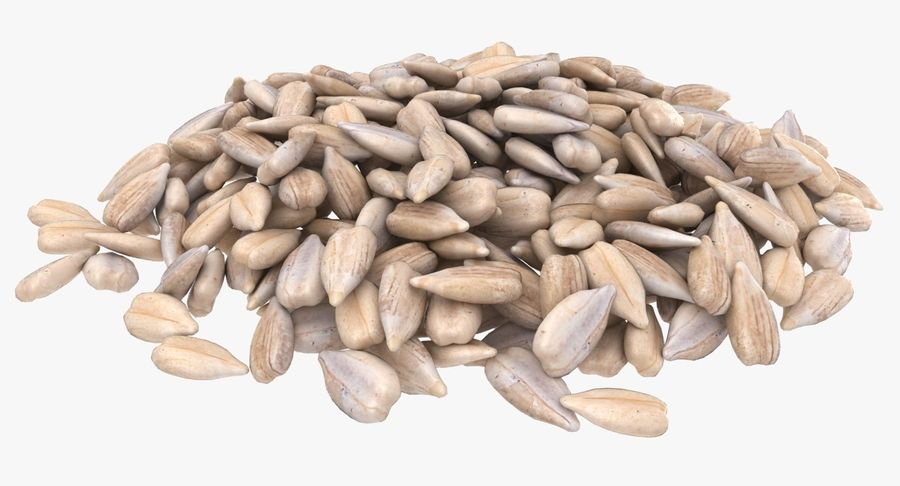seed: (16, 29, 887, 456)
